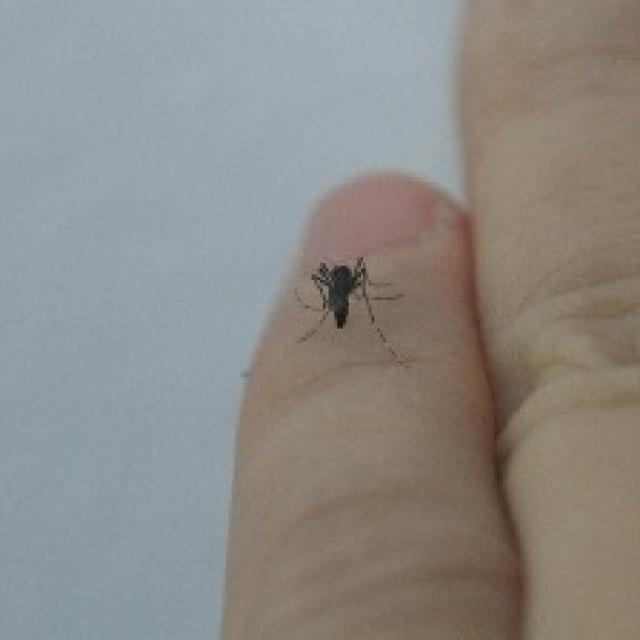aedes: (288, 251, 406, 363)
